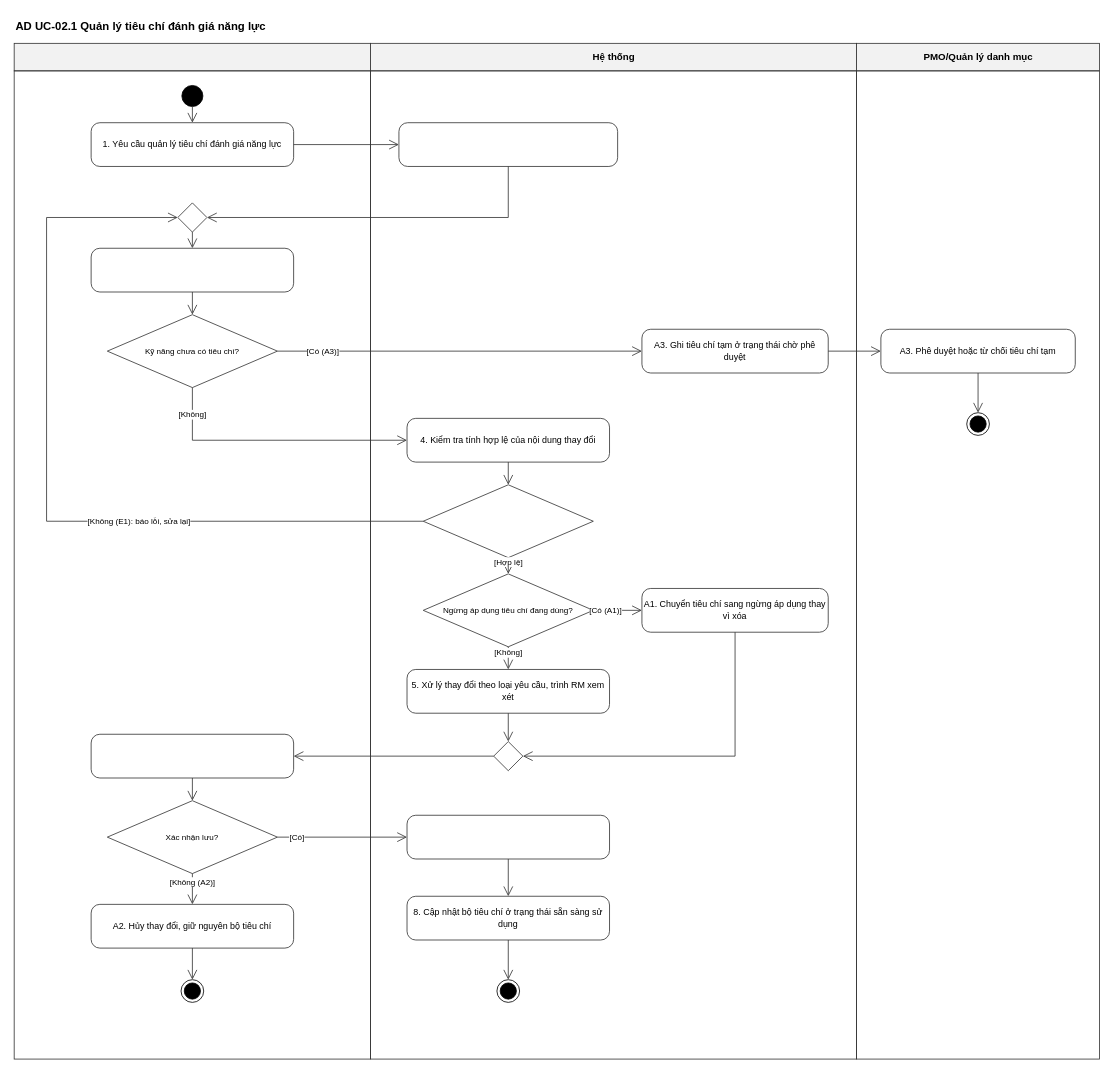
This 1114x1073 diagram has some shape labels left out. The shapes that lost their labels are listed below. From the top down, each one's centre as x and y in pixels, then its label:
At [192,57]: "RM".
At [508,144]: "2. Cung cấp bộ tiêu chí hiện hành: kỹ năng, tiêu chí, thang 5 mức, điều kiện".
At [192,269]: "3. Xác định nội dung thay đổi".
At [507,521]: "Hợp lệ?".
At [192,755]: "6. Xem xét và xác nhận lưu thay đổi".
At [508,836]: "7. Lưu thay đổi, ghi người thực hiện, thời điểm, nội dung".
